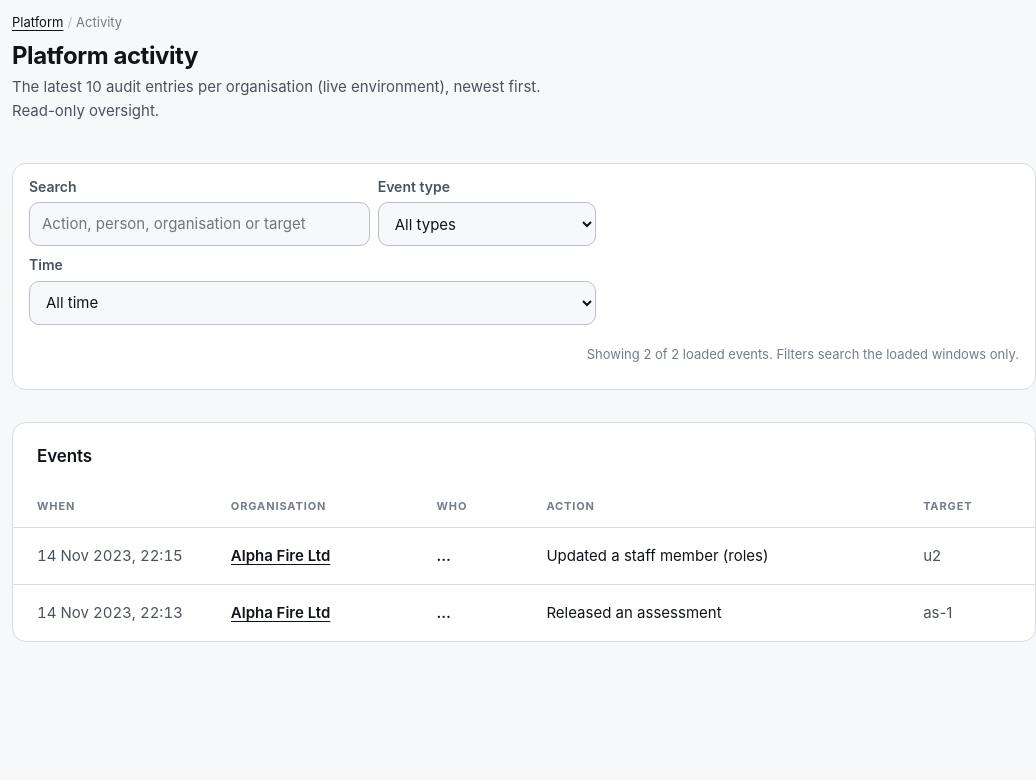
PlatformActivity › filters the loaded entries by event type
Expected: the text "Released an assessment" is shown, [546, 603, 722, 622]
Expected: the text "Updated a staff member (roles)" is shown, [546, 546, 768, 565]
Select "Members" in the dropdown labelled "Event type" at [487, 224], box [378, 202, 596, 246]
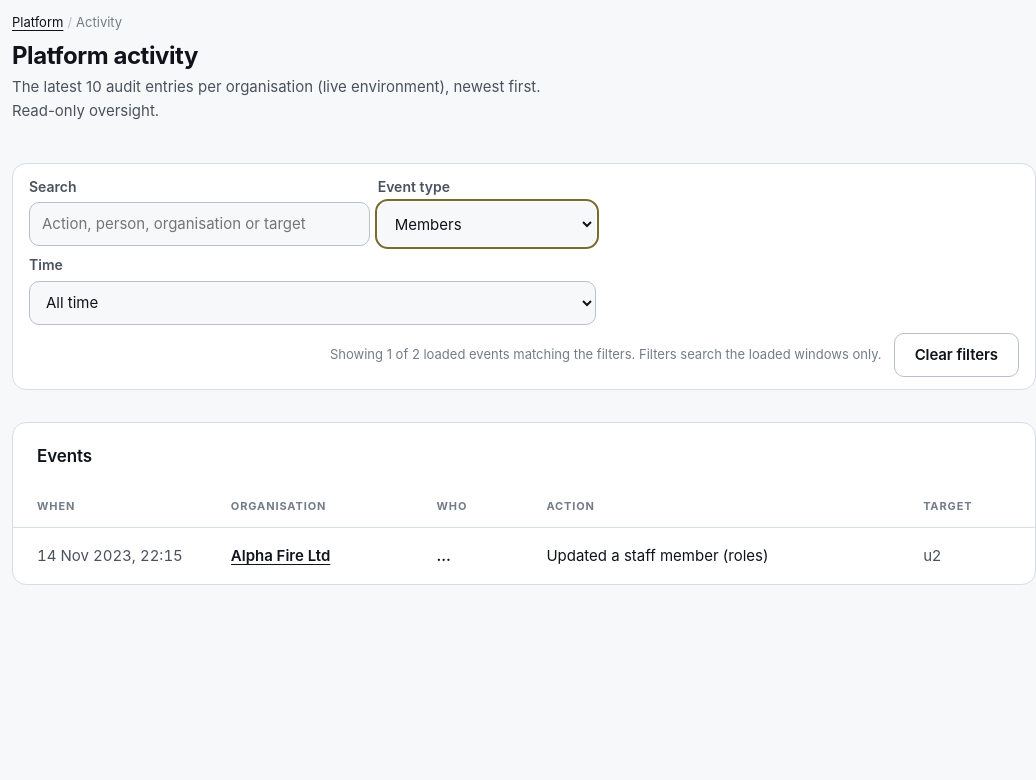
Expected: the text "Updated a staff member (roles)" is shown, [546, 546, 768, 565]
Expected: the text "Released an assessment" is gone
